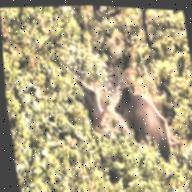boar: (108, 69, 173, 162), (74, 69, 111, 131)
